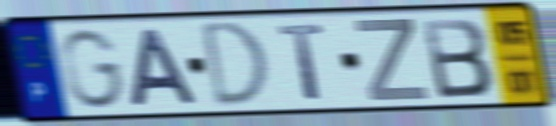A: (126, 26, 202, 109)
B: (418, 15, 495, 101)
D: (199, 18, 272, 111)
G: (57, 26, 129, 111)
T: (274, 21, 329, 103)
Z: (352, 17, 433, 104)
